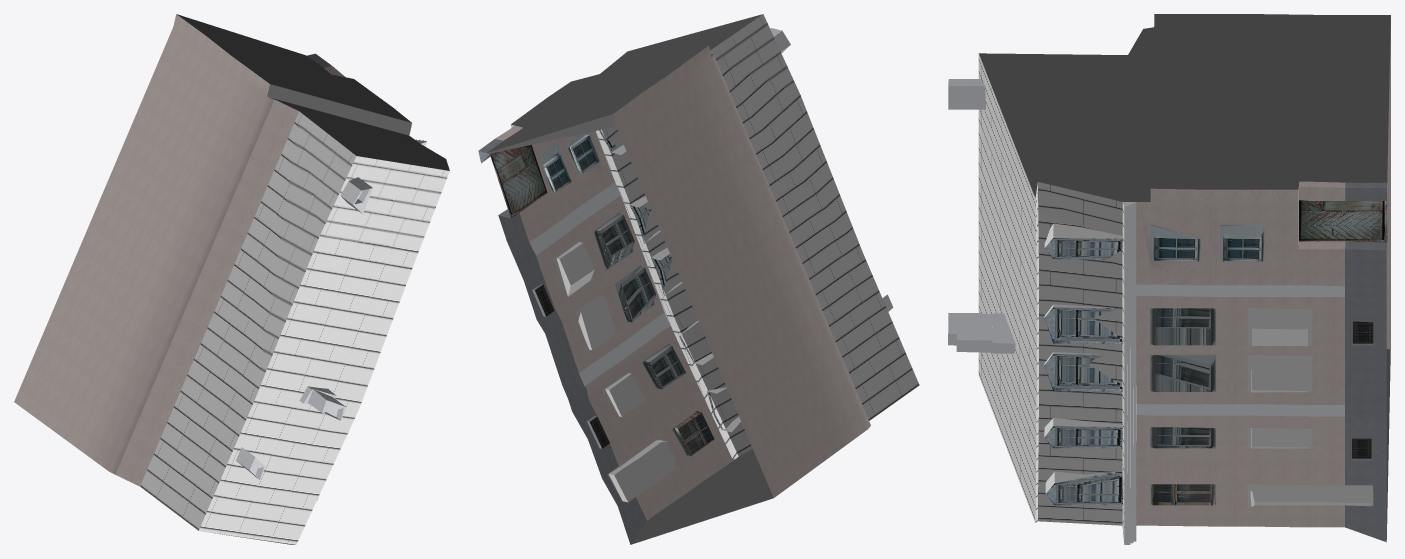
The model's file is Myyrivahe_25-origo.obj.
3 renders of one model, left to right at view 1: azimuth 30°, elevation 25°; view 2: azimuth 150°, elevation 25°; view 3: azimuth 270°, elevation 25°, orthographic. The views are drawn at different scales.
Parts seen in each view (by area): view 1: Myyrivahe_25; view 2: Myyrivahe_25; view 3: Myyrivahe_25.
Boxes of the visible parts, box(x1,y1,x2,y2) form: Myyrivahe_25: box(14, 14, 449, 544); Myyrivahe_25: box(478, 14, 919, 544); Myyrivahe_25: box(948, 14, 1390, 544).
Bounding box in the file's own units: 13.31 × 18 × 13.45.
